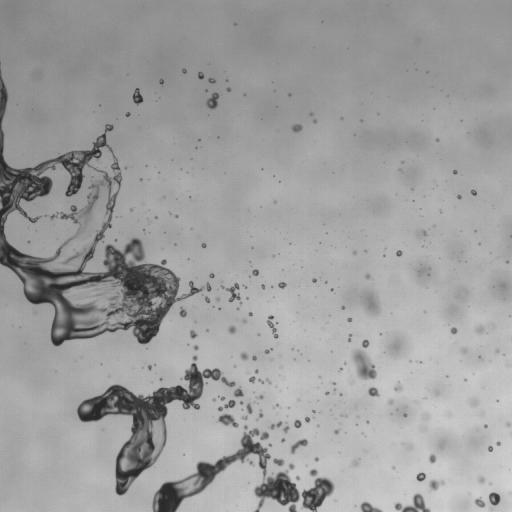droplet: (351, 349, 377, 379), (362, 290, 379, 316), (221, 283, 241, 302), (218, 414, 238, 427), (206, 92, 219, 109), (455, 286, 469, 301), (429, 479, 444, 491), (132, 88, 143, 104), (489, 492, 500, 505), (474, 497, 485, 507), (368, 387, 379, 396), (393, 382, 402, 392), (273, 458, 284, 466), (234, 387, 243, 396), (416, 472, 425, 481), (292, 124, 302, 132), (428, 453, 436, 463), (475, 325, 484, 333), (179, 307, 186, 317), (246, 403, 252, 414), (228, 325, 236, 333), (240, 352, 248, 360), (362, 339, 369, 348), (470, 398, 477, 407), (294, 420, 301, 427), (478, 476, 485, 483), (278, 282, 286, 288), (190, 330, 196, 338), (257, 411, 263, 419), (450, 327, 457, 333), (249, 376, 255, 383), (396, 250, 402, 256), (252, 269, 258, 275), (352, 460, 358, 466), (198, 72, 203, 79), (208, 78, 215, 83), (283, 425, 288, 432), (471, 189, 476, 195), (205, 297, 210, 303), (461, 347, 466, 353), (421, 426, 426, 432), (264, 349, 271, 353), (193, 345, 198, 350), (388, 399, 393, 404), (305, 417, 310, 422), (334, 429, 339, 434), (422, 230, 426, 236), (257, 395, 263, 399), (274, 404, 280, 408), (241, 415, 247, 419), (159, 79, 163, 84), (201, 243, 206, 247), (210, 273, 214, 278), (365, 274, 370, 278), (252, 355, 256, 360), (488, 446, 492, 451), (348, 334, 351, 340), (182, 69, 186, 73), (126, 112, 130, 116), (453, 170, 457, 174), (457, 195, 461, 199), (312, 278, 316, 282), (261, 284, 265, 288), (242, 319, 246, 323), (220, 396, 224, 400), (403, 413, 407, 417), (506, 422, 510, 426), (496, 441, 500, 445), (314, 457, 318, 461), (227, 87, 230, 91), (347, 318, 351, 321), (148, 365, 151, 369), (254, 370, 258, 373), (296, 476, 299, 480), (175, 214, 178, 217), (243, 285, 246, 288), (216, 297, 219, 300), (341, 306, 344, 309), (249, 313, 252, 316), (339, 368, 342, 371), (281, 438, 284, 441), (326, 391, 328, 395), (313, 120, 316, 122), (436, 138, 438, 141), (353, 251, 355, 254), (496, 349, 498, 352), (484, 425, 487, 427), (310, 113, 312, 115), (159, 378, 161, 380), (332, 382, 334, 384), (436, 391, 438, 393), (240, 402, 242, 404), (426, 416, 428, 418)
ligament: (0, 70, 210, 346), (77, 355, 235, 494), (152, 425, 334, 511), (394, 493, 430, 511), (290, 438, 307, 453), (267, 315, 278, 338), (359, 501, 382, 511), (218, 400, 235, 411), (269, 421, 281, 429), (259, 379, 271, 383), (510, 492, 511, 495)
